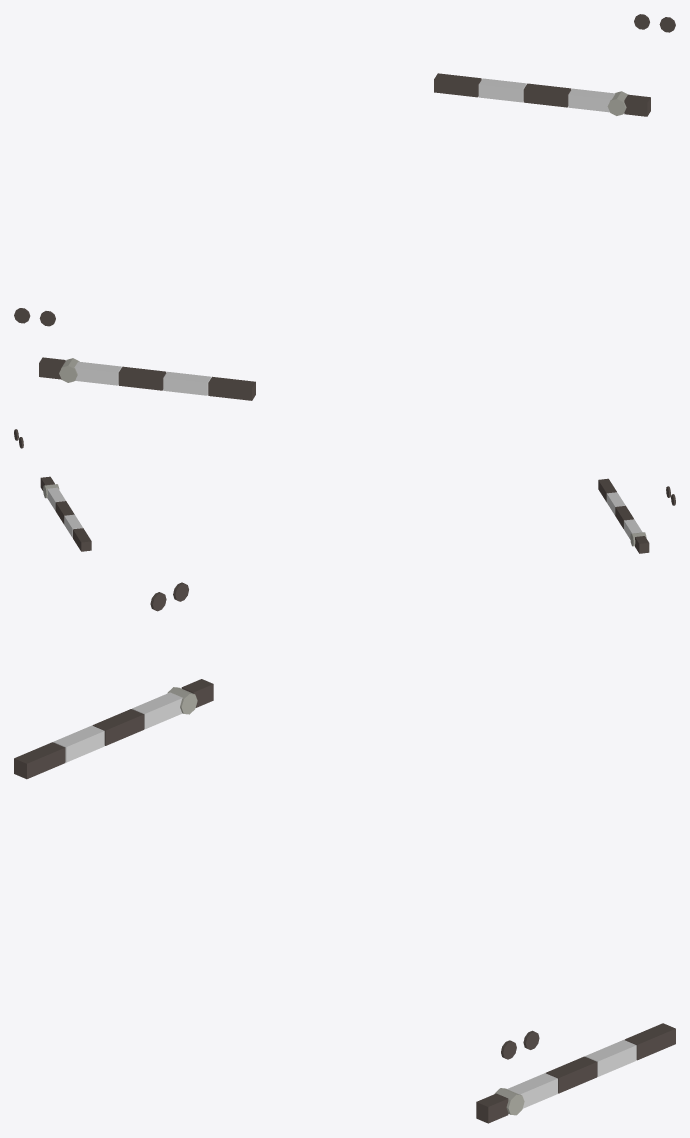
The model's file is SM_PasoNivel_45E_v4_Catenaria_LOD1.fbx.
3 views of the same model, one above another, from view 1: azimuth 30°, elevation 25°; view 2: azimuth 150°, elevation 25°; view 3: azimuth 270°, elevation 25° (orthographic). The views are drawn at different scales.
Parts seen in each view (by area): view 1: Barrera_2, Barrera_1; view 2: Barrera_1, Barrera_2; view 3: Barrera_1, Barrera_2.
Part boxes in pixels (x1,y1,x2,y2): Barrera_2: (39,357,255,400); Barrera_1: (434,73,650,116); Barrera_1: (40,476,91,551); Barrera_2: (598,478,649,553); Barrera_1: (476,1023,675,1123); Barrera_2: (14,679,213,779).
Size of what is drawn, in the model's own units: 19.26 by 1.91 by 11.6.
